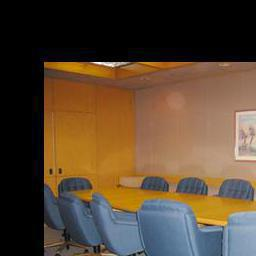Puerta: (44, 113, 93, 184)
